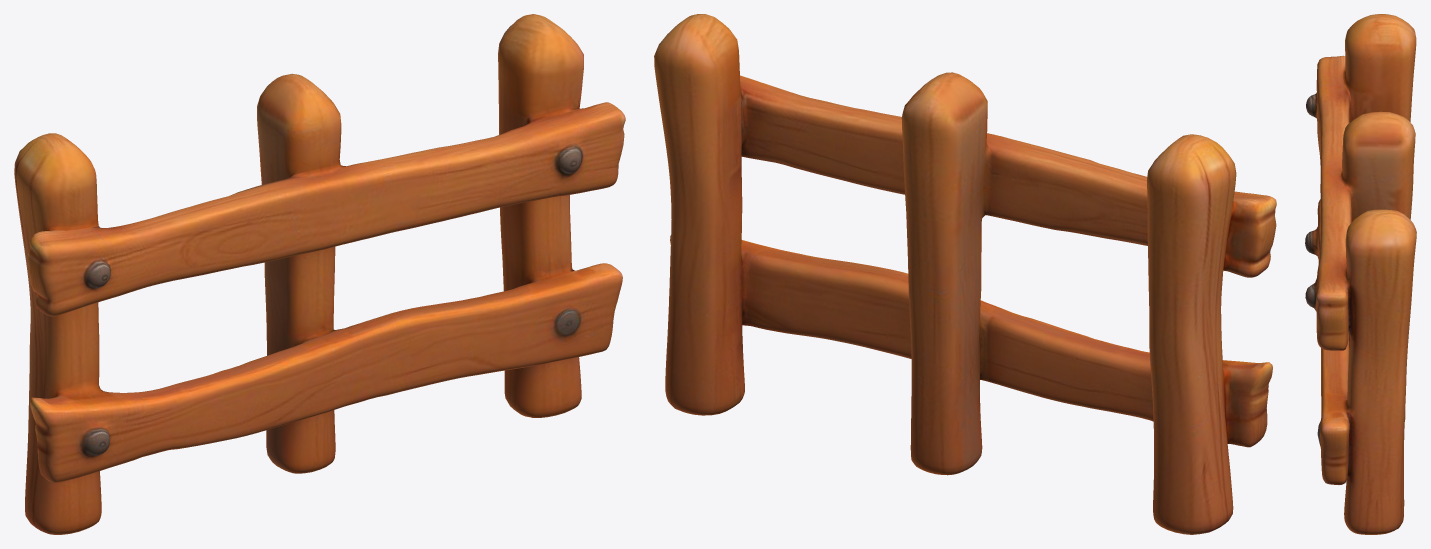
The model's file is garden_fence.glb.
3 renders of one model, left to right at view 1: azimuth 30°, elevation 25°; view 2: azimuth 150°, elevation 25°; view 3: azimuth 270°, elevation 25°, orthographic. The views are drawn at different scales.
Parts seen in each view (by area): view 1: input; view 2: input; view 3: input.
Boxes of the visible parts, x1,y1,x2,y2 form: input: (14, 14, 625, 534); input: (654, 14, 1276, 534); input: (1305, 14, 1416, 534).
Bounding box in the file's own units: 1.99 × 1.25 × 0.3993.
1 material, 1 textured.
